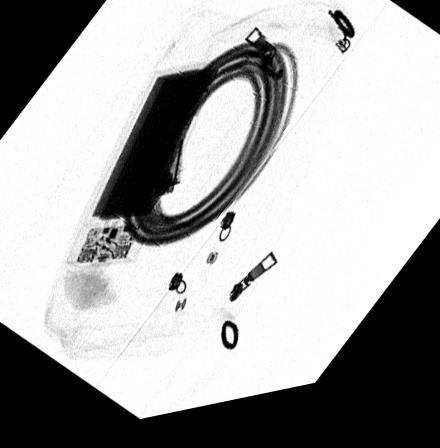Powerbank: (63, 72, 217, 269)
